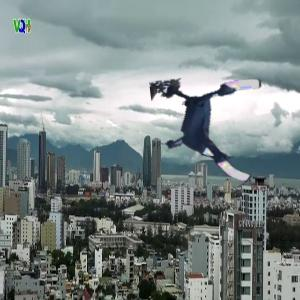drone: (156, 75, 270, 189)
